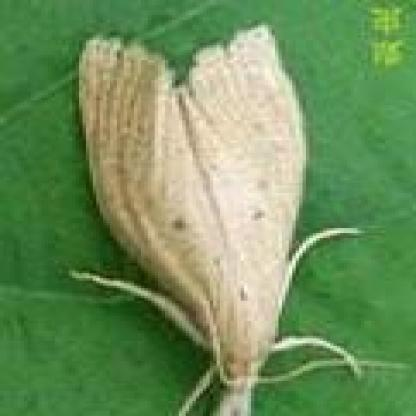stem-borer: (62, 20, 359, 416)
